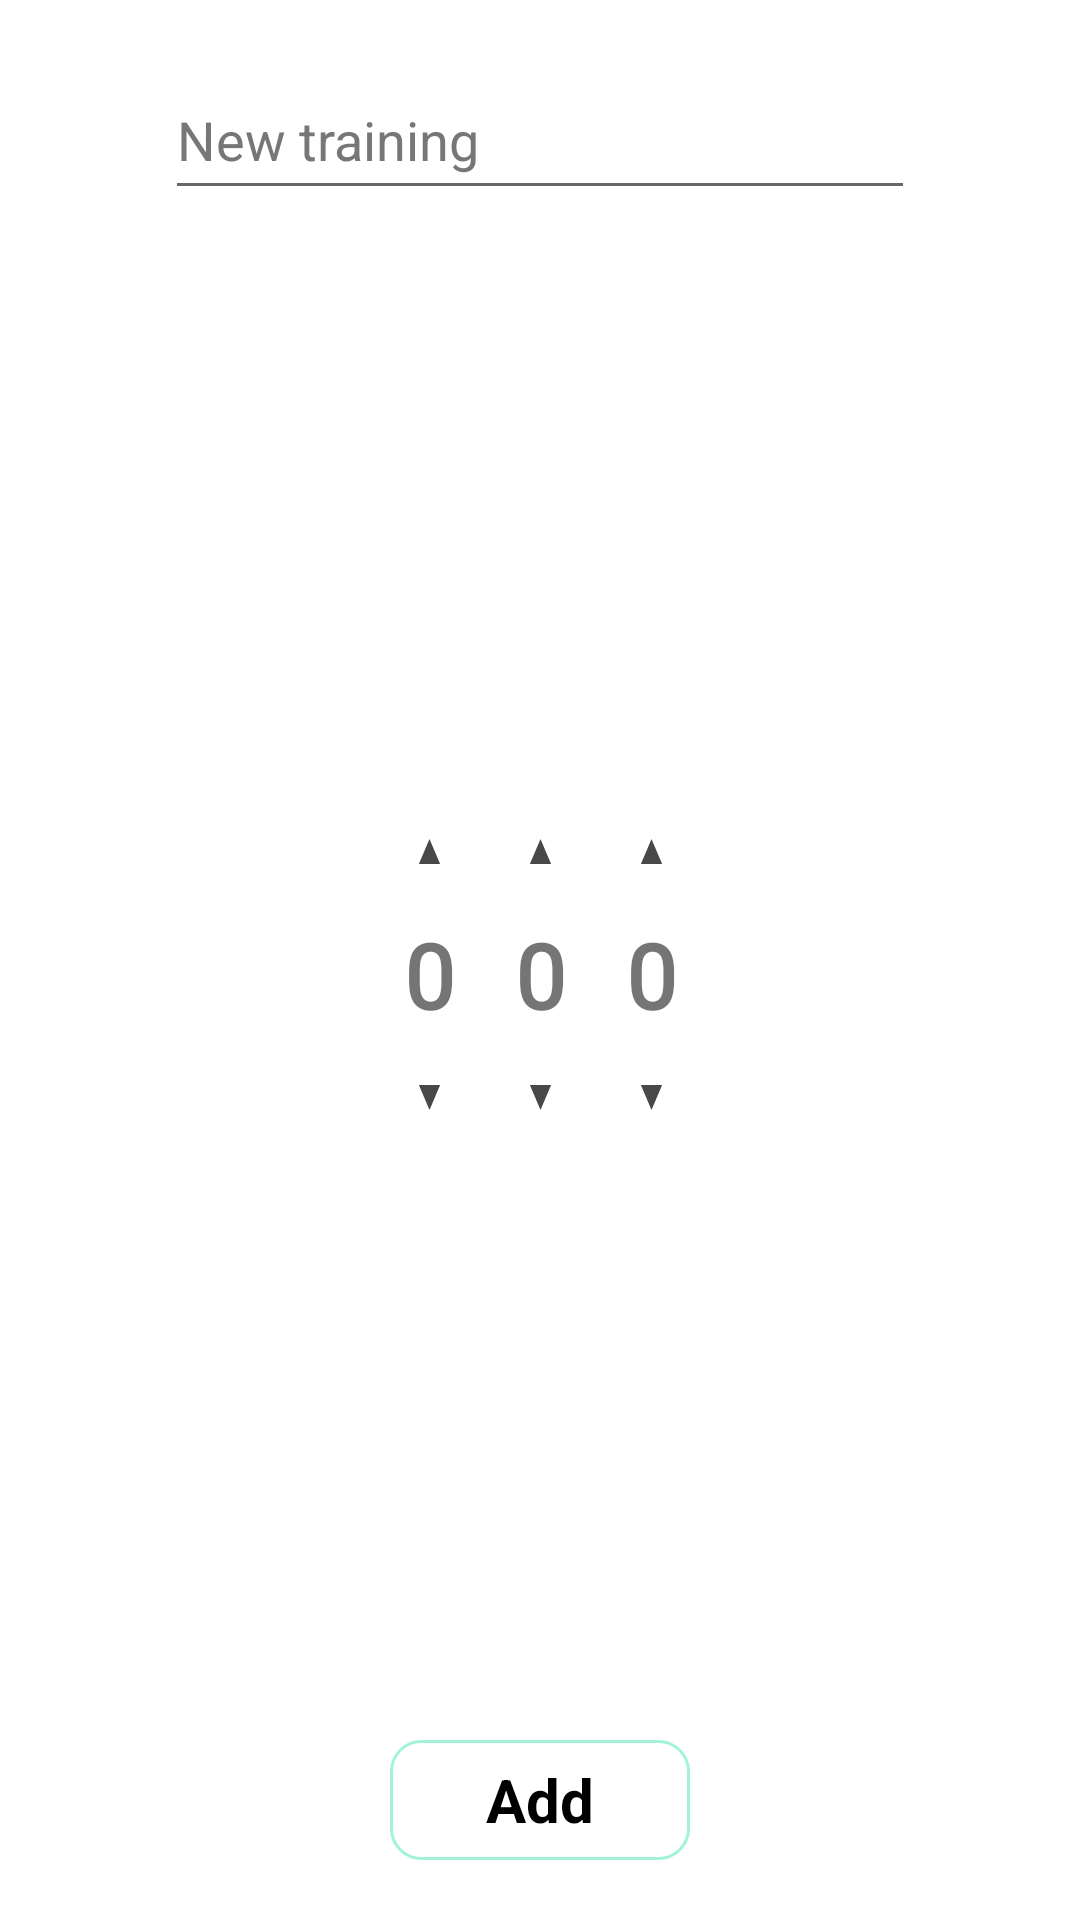

Icon click points for this 1080×1920 phone screenshot, format (x,y):
arrow drop down: (429,1097), (540,1097), (651,1097)
arrow drop up: (429,851), (540,851), (651,851)
